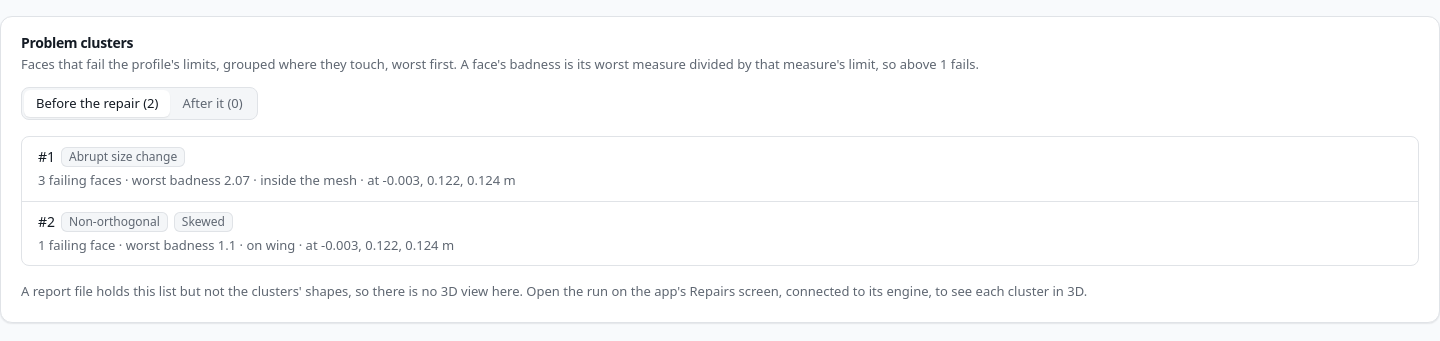
Test: ClustersCard › lists the clusters worst first, and those left after the repair
Check: the list items read "#1Abrupt size change3 failing faces · worst badness 2.07 · inside the mesh · at -0.003, 0.122, 0.124 m", "#2Non-orthogonalSkewed1 failing face · worst badness 1.1 · on wing · at -0.003, 0.122, 0.124 m", in this order, box top-left (22, 137), bottom-right (1418, 202); top-left (38, 212), bottom-right (454, 254)
Click the radio button labelled "After it (0)" at point(213, 103), box top-left (170, 90), bottom-right (255, 117)
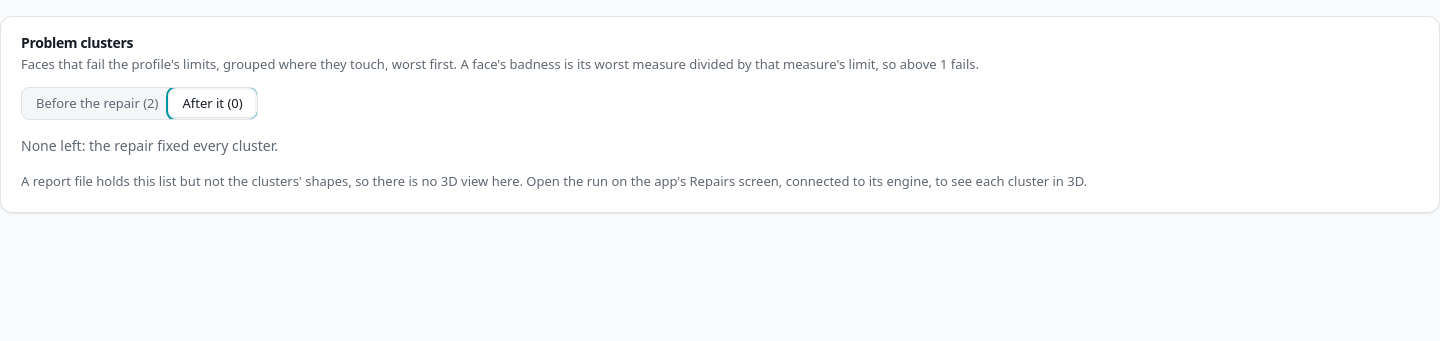
Check: the text "None left: the repair fixed every cluster." is shown, box top-left (21, 136), bottom-right (278, 155)
